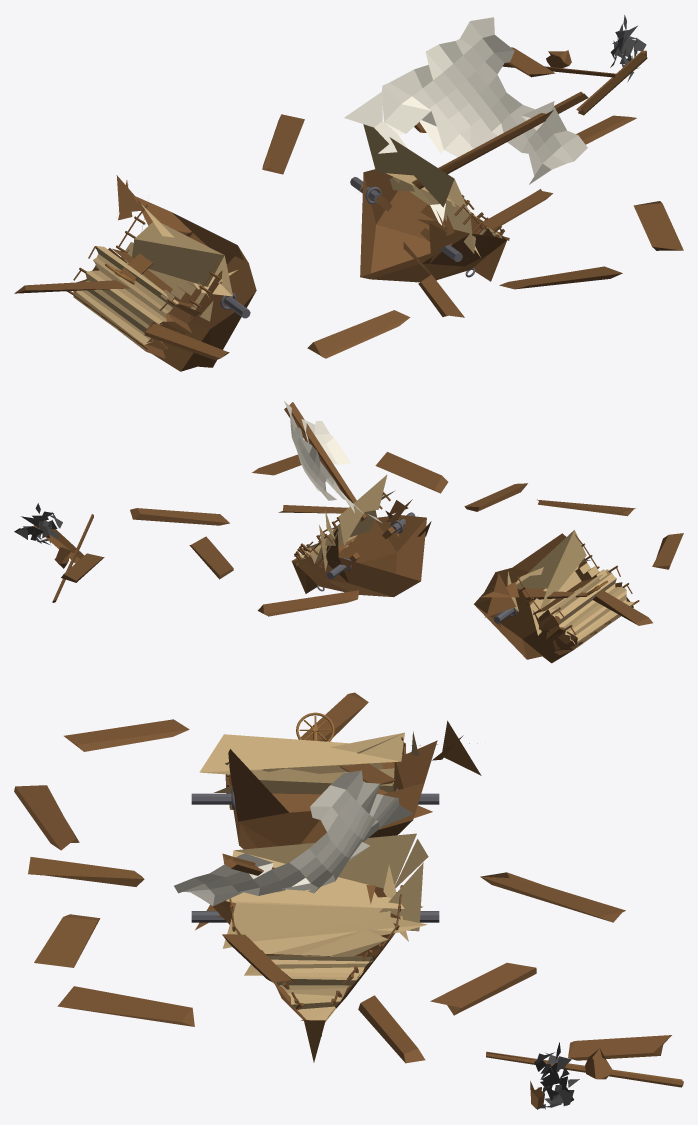
The model's file is SunkenShip.fbx.
3 renders of one model, top to bottom at view 1: azimuth 30°, elevation 25°; view 2: azimuth 150°, elevation 25°; view 3: azimuth 270°, elevation 25°, orthographic. The views are drawn at different scales.
Visible parts, largest first — view 1: Sail, Hull_M_Hull_Bow, Hull_M_Hull_Stern, Deck_Main_Stern, Deck_Stern, Deck_Main_Bow, Plank_02, Mast_Base, Plank_08, Plank_04, Plank_05, Plank_01 (+8 smaller); view 2: Hull_M_Hull_Bow, Hull_M_Hull_Stern, Deck_Main_Stern, Deck_Stern, Sail, Deck_Main_Bow, Plank_05, Plank_04, Plank_09, Mast_Base, Flag_Main, Plank_07 (+9 smaller); view 3: Deck_Main_Bow, Sail, Hull_M_Hull_Stern, Deck_Main_Stern, Deck_Bow, Plank_08, Plank_04, Plank_07, Plank_01, Plank_05, Plank_02, Plank_03 (+8 smaller).
Boxes of the visible parts, x1,y1,x2,y2 form: Sail: (344,17,587,225); Hull_M_Hull_Bow: (359,169,509,282); Hull_M_Hull_Stern: (116,175,256,371); Deck_Main_Stern: (121,204,237,321); Deck_Stern: (73,246,178,349); Deck_Main_Bow: (363,124,480,257); Plank_02: (307,310,410,358); Mast_Base: (411,91,588,189); Plank_08: (633,201,683,250); Plank_04: (262,114,304,174); Plank_05: (499,266,622,289); Plank_01: (144,323,229,360); Hull_M_Hull_Bow: (291,499,431,597); Hull_M_Hull_Stern: (474,533,586,663); Deck_Main_Stern: (507,530,590,635); Deck_Stern: (551,569,633,647); Sail: (284,401,381,522); Deck_Main_Bow: (306,475,395,571); Plank_05: (375,452,448,493); Plank_04: (257,590,359,616); Plank_09: (130,508,229,525); Mast_Base: (284,402,366,521); Flag_Main: (14,503,62,544); Plank_07: (189,536,233,579); Deck_Main_Bow: (222,833,428,975); Sail: (174,770,413,906); Hull_M_Hull_Stern: (228,720,481,849); Deck_Main_Stern: (199,731,418,794); Deck_Bow: (267,955,372,1022); Plank_08: (57,986,194,1026); Plank_04: (480,872,625,922); Plank_07: (430,962,536,1015); Plank_01: (64,719,189,751); Plank_05: (34,914,100,967); Plank_02: (14,785,79,850); Plank_03: (28,857,144,886).
Bounding box in the file's own units: 2620 × 929 × 1769.
